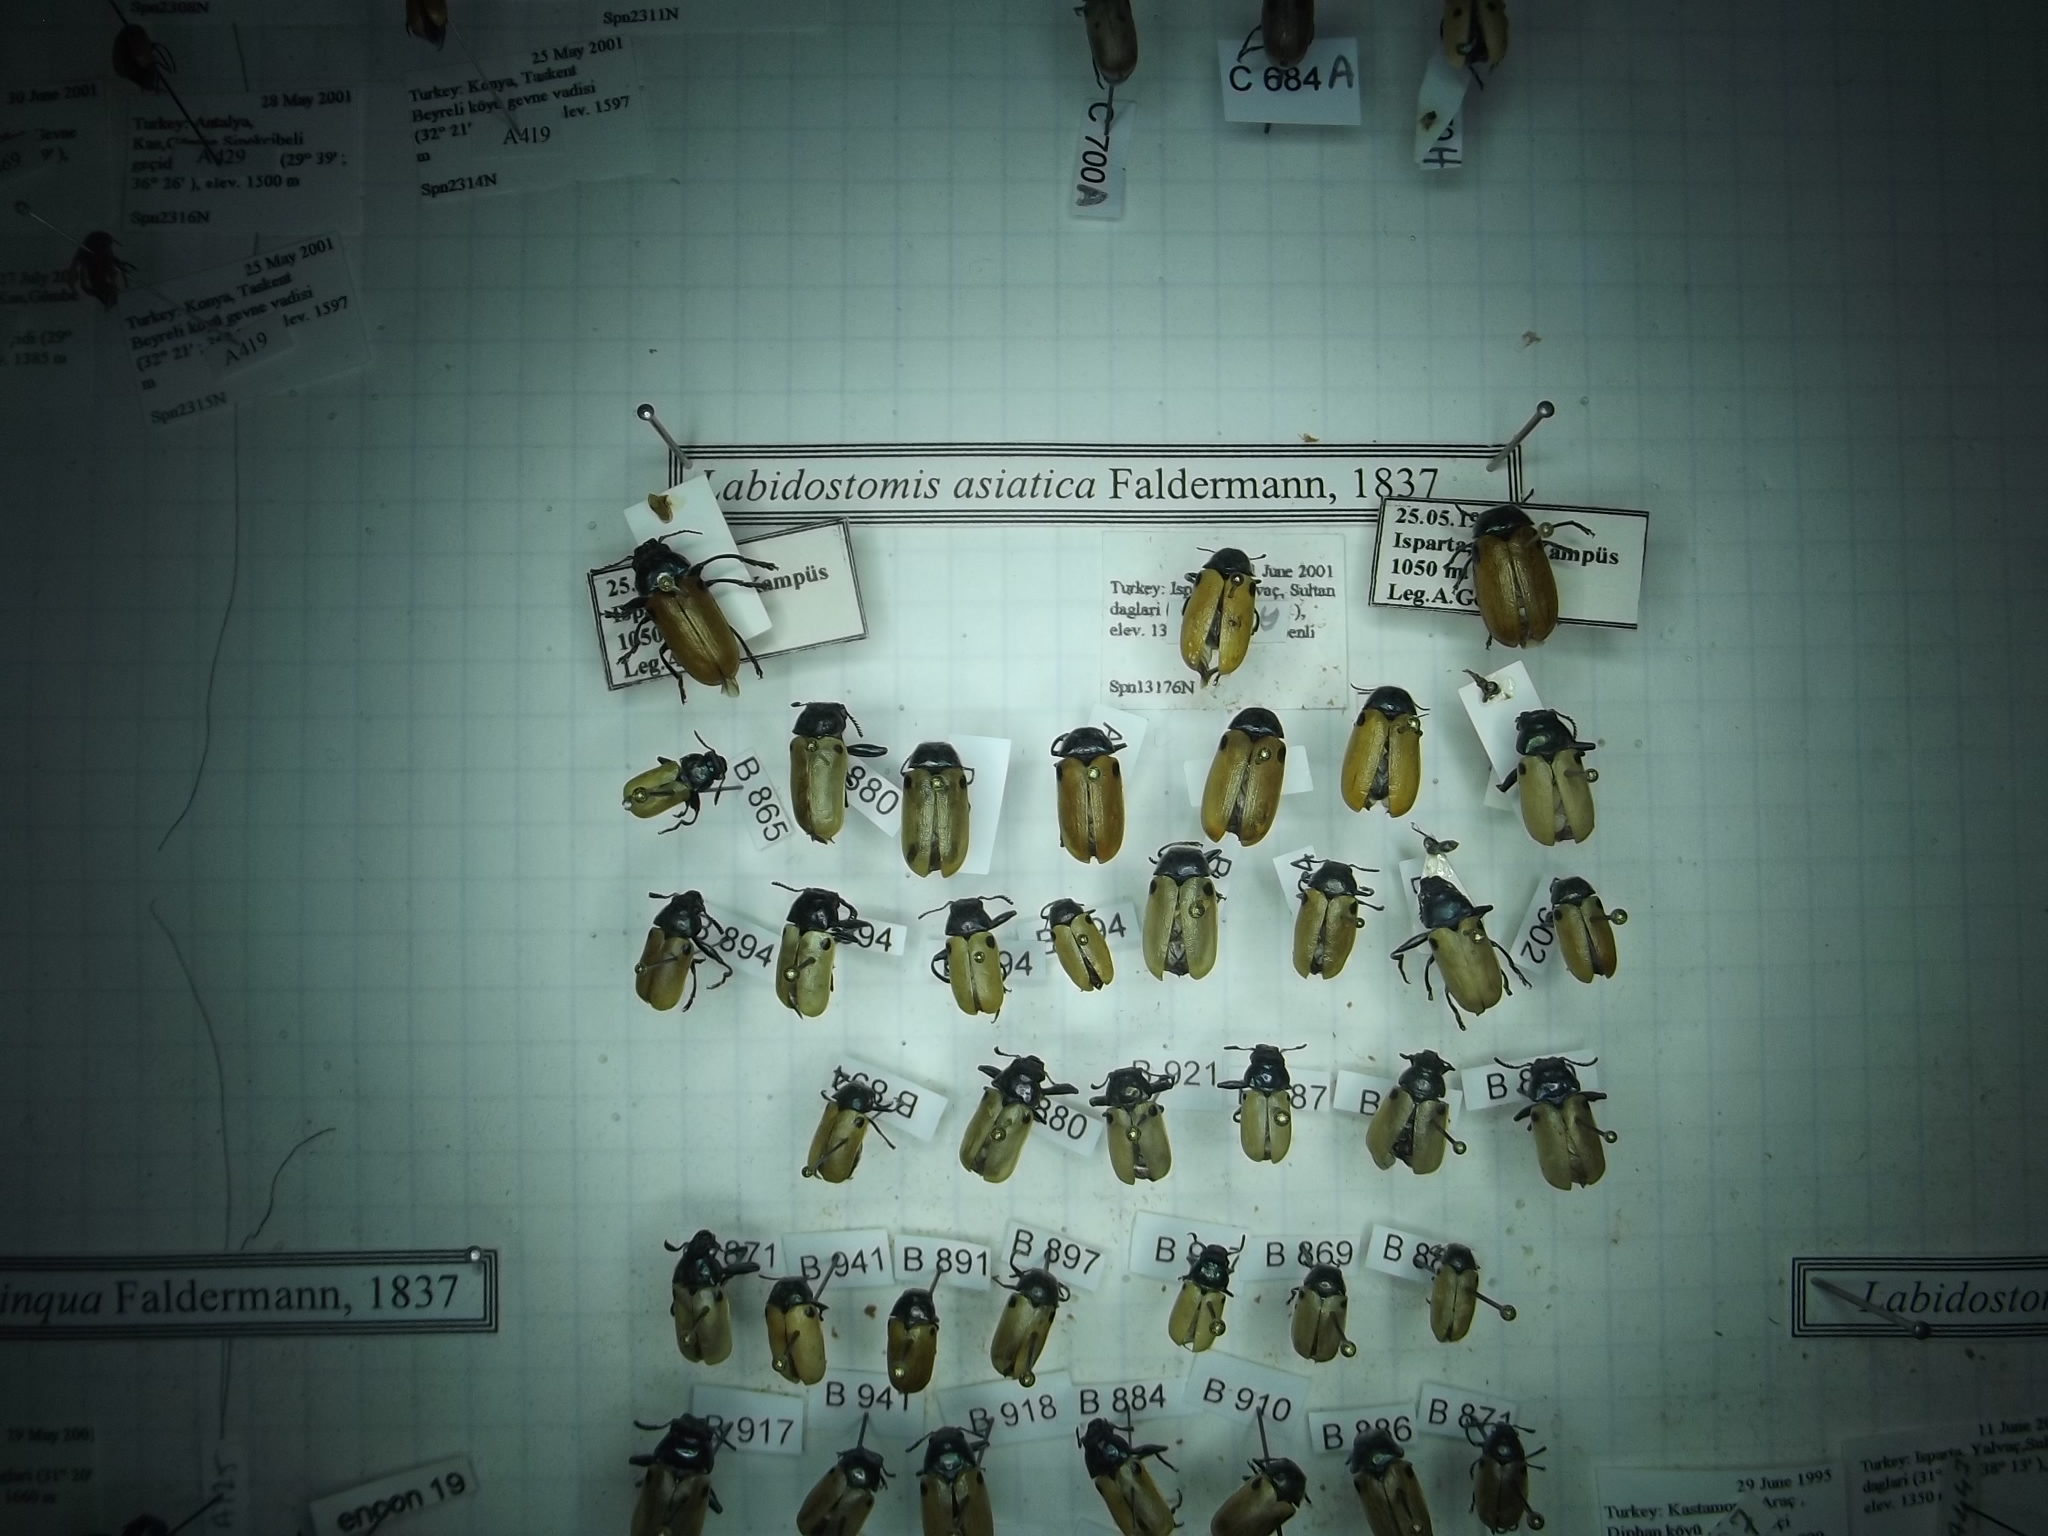Labidostomis_asiatica: (1445, 482, 1576, 662), (947, 1034, 1085, 1194), (1392, 862, 1517, 1034), (1490, 1047, 1621, 1197), (742, 878, 855, 1033), (1501, 694, 1601, 862), (1174, 520, 1268, 699), (1179, 697, 1288, 847), (1338, 682, 1447, 833), (1361, 1039, 1467, 1183), (622, 879, 726, 1026), (1526, 858, 1637, 994), (1090, 1050, 1188, 1192), (1042, 716, 1134, 866), (780, 689, 861, 855), (892, 737, 984, 883), (1142, 841, 1234, 986), (656, 1218, 737, 1375), (1285, 855, 1377, 992), (598, 745, 734, 837), (1214, 1041, 1309, 1167), (930, 889, 1018, 1025), (1408, 1234, 1501, 1355), (1166, 1225, 1248, 1362), (806, 1075, 898, 1197), (750, 1270, 842, 1391), (985, 1254, 1069, 1384), (1282, 1242, 1369, 1368), (1037, 886, 1121, 997)
